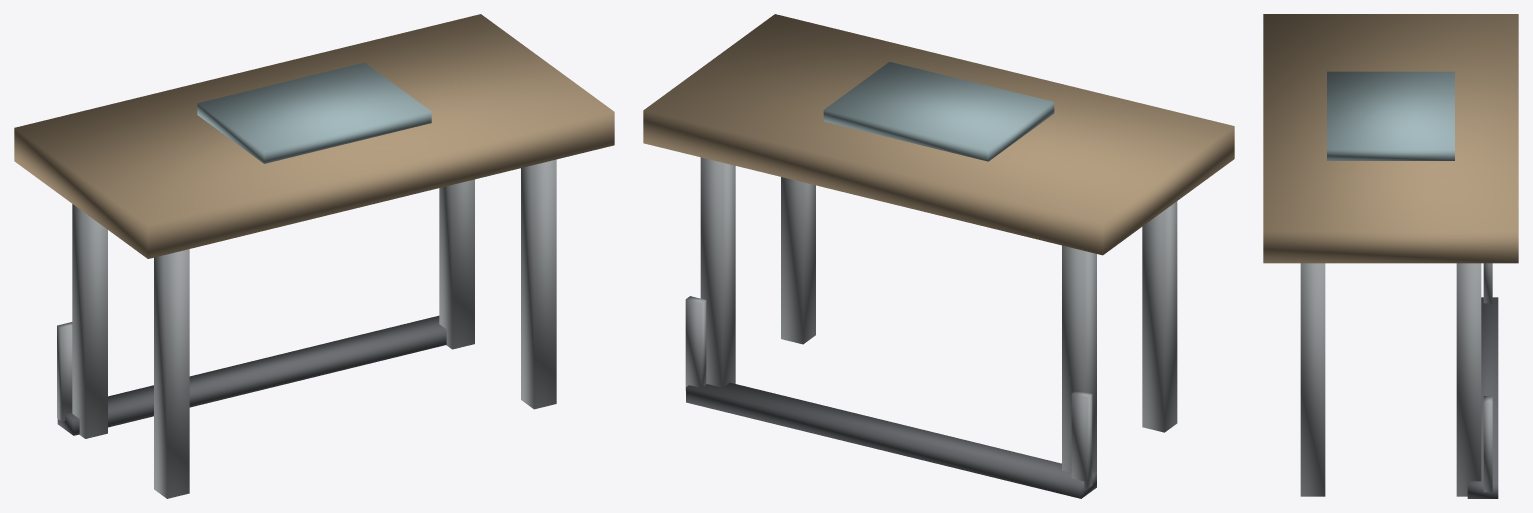
Rendered from material_inspection_table__reinforced.glb.
3 views of the same model, side by side, from view 1: azimuth 30°, elevation 25°; view 2: azimuth 150°, elevation 25°; view 3: azimuth 270°, elevation 25° (orthographic). The views are drawn at different scales.
Parts seen in each view (by area): view 1: world; view 2: world; view 3: world.
Part boxes in pixels (<box>): world: <box>14,14,614,498</box>; world: <box>643,14,1234,498</box>; world: <box>1263,14,1518,498</box>.
Bounding box in the file's own units: 1.49 × 0.946 × 0.7416.
